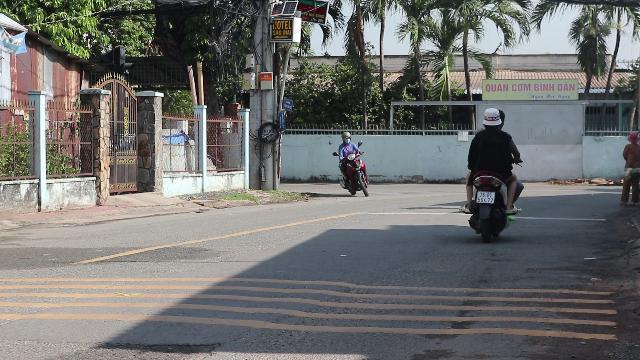licenseplate: (476, 192, 494, 202)
motorcyclist: (460, 106, 524, 242)
nohelmet: (481, 107, 503, 129)
